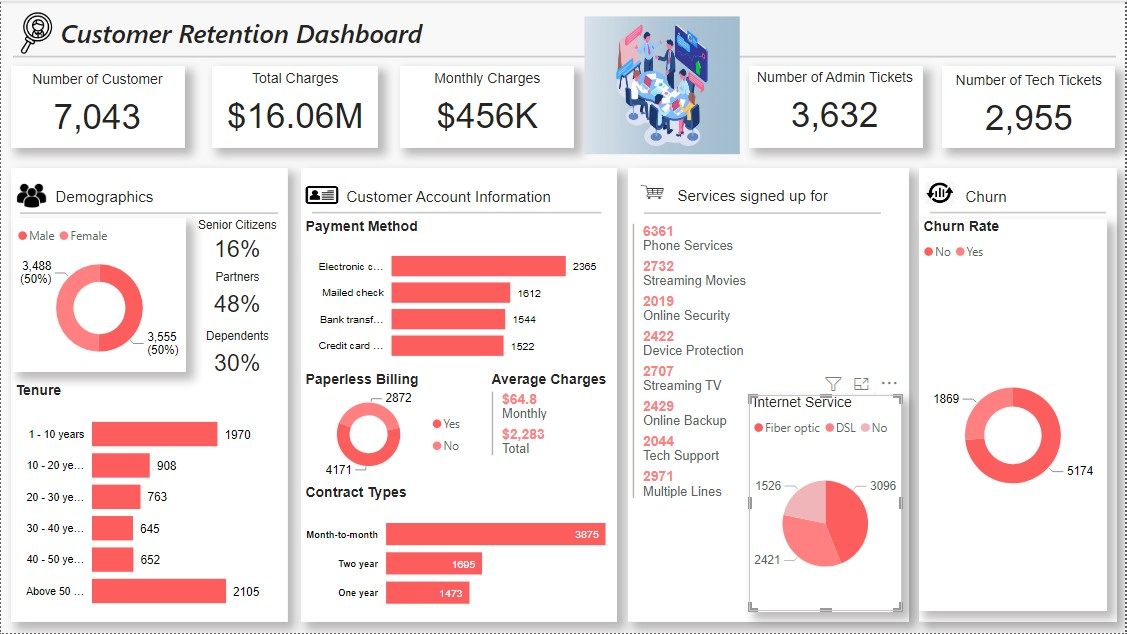

Layout of this report page (visuals, bound fields, positions):
{"tool":"powerbi","page":{"name":"Page 1","canvas":[1280,720],"ordinal":0},"visuals":[{"type":"shape","box":[11.5,189.8,314.6,517.1],"z":0},{"type":"shape","box":[341.3,189.8,360.4,517.1],"z":1000},{"type":"shape","box":[714.5,189.8,319.7,517.1],"z":2000},{"type":"shape","box":[1045.7,189.8,225.4,517.1],"z":3000},{"type":"shape","box":[11.4,73.9,197.9,93.3],"z":4000},{"type":"shape","box":[240,73.9,188.8,93.3],"z":5000},{"type":"shape","box":[455,73.9,197.9,93.3],"z":6000},{"type":"shape","box":[851.9,73.9,197.9,93.3],"z":7000},{"type":"shape","box":[1071.5,73.9,196.8,93.3],"z":8000},{"type":"shape","box":[21.7,234.3,294.2,14],"z":9000},{"type":"shape","box":[13.6,56.9,1256.9,12.5],"z":10000},{"type":"shape","box":[354.1,234.3,329.9,12.7],"z":11000},{"type":"shape","box":[732.3,234.3,270,14],"z":12000},{"type":"shape","box":[1058.4,234.3,201.2,12.7],"z":13000},{"type":"textbox","title":"Customer Retention Dashboard","box":[62.6,15.9,465.2,40.9],"z":14000},{"type":"textbox","title":"Demographics","box":[57.3,212.7,234.3,22.9],"z":15000},{"type":"textbox","title":"Customer Account Information","box":[388.5,212.7,267.5,22.9],"z":16000},{"type":"textbox","title":"Services signed up for","box":[765.5,211.6,228.6,22.7],"z":17000},{"type":"textbox","title":"Churn","box":[1094.2,212.7,167.2,22.7],"z":18000},{"type":"card","title":"Number of Customer","fields":{"Values":["All measures.Total Number of Customers"]},"box":[21.6,80.8,176.3,79.6],"z":19000},{"type":"card","title":"Total Charges ","fields":{"Values":["All measures.Total Charges"]},"box":[245.5,80.2,178.3,80.2],"z":20000},{"type":"card","title":"Monthly Charges ","fields":{"Values":["All measures.Monthly Charges"]},"box":[464.9,80.2,178.3,80.2],"z":21000},{"type":"card","title":"Number  of Admin Tickets","fields":{"Values":["All measures.# of Admin Tickets"]},"box":[853.1,78.5,193.4,80.8],"z":22000},{"type":"donutChart","fields":{"Y":["All measures.Total Number of Customers"],"Category":["Demography.gender"]},"box":[14,247.1,197.4,175.8],"z":23000},{"type":"card","title":"Partners","fields":{"Values":["All measures.% Partners"]},"box":[211.4,306.9,114.6,61.1],"z":24000},{"type":"card","title":"Senior Citizens","fields":{"Values":["All measures.% Senior Citizens"]},"box":[211.4,247.1,114.6,56],"z":25000},{"type":"card","title":"Dependents","fields":{"Values":["All measures.% Dependents"]},"box":[211.4,373.2,114.6,62.4],"z":26000},{"type":"barChart","title":"Tenure","fields":{"Y":["CountNonNull(Demography.Tenure Range)"],"Category":["Demography.Tenure Range"]},"box":[11.5,435.6,314.6,271.3],"z":27000},{"type":"barChart","title":"Payment Method ","fields":{"Category":["Account Info.PaymentMethod"],"Y":["CountNonNull(Account Info.PaymentMethod)"]},"box":[341.3,248.4,360.4,174.5],"z":28000},{"type":"donutChart","title":"Paperless Billing","fields":{"Category":["Account Info.PaperlessBilling"],"Y":["CountNonNull(Account Info.PaperlessBilling)"]},"box":[341.3,422.8,194.9,124.8],"z":29000},{"type":"barChart","title":"Contract Types ","fields":{"Category":["Account Info.Contract"],"Y":["CountNonNull(Account Info.Contract)"]},"box":[341.3,551.5,360.4,155.4],"z":30000},{"type":"multiRowCard","fields":{"Values":["All measures.Phone Services","All measures.Streaming Movies","All measures.Online Security","All measures.Device Protection","All measures.Streaming TV","All measures.Online Backup","All measures.Tech Support","All measures.Multiple Lines"]},"box":[714.5,248.4,174.5,338.8],"z":31000},{"type":"pieChart","title":"Internet Service","fields":{"Category":["Customer Service.InternetService"],"Y":["CountNonNull(Customer Service.InternetService)"]},"box":[852.1,448.3,174.5,247.1],"z":32000},{"type":"donutChart","title":"Churn Rate","fields":{"Category":["Churn.Churn"],"Y":["CountNonNull(Churn.Churn)"]},"box":[1045.7,248.4,214,447],"z":33000},{"type":"multiRowCard","title":"Average Charges","fields":{"Values":["All measures.Average Monthly Charges","All measures.Average Total Charges"]},"box":[554,422.8,147.7,124.8],"z":34000},{"type":"card","title":"Number of Tech Tickets","fields":{"Values":["All measures.# of Tech Tickets"]},"box":[1079.4,81.9,182,79.6],"z":35000},{"type":"image","box":[11.5,200,45.9,40.8],"z":36000},{"type":"image","box":[341.3,200,48.4,40.8],"z":37000},{"type":"image","box":[714.3,196.8,54.6,40.9],"z":38000},{"type":"image","box":[1048.2,200,43.3,35.7],"z":39000},{"type":"image","box":[659.7,12.7,187.2,166.8],"z":40000},{"type":"image","box":[0,8,79.6,56.9],"z":41000}]}

Visuals, with their boxes in screenshot pixels (x1, y1, x2, y2), scaled from the page's 1280x720 canvas onto the 1127x634 screenshot:
shape: 10, 167, 287, 622
shape: 301, 167, 618, 622
shape: 629, 167, 911, 622
shape: 921, 167, 1119, 622
shape: 10, 65, 184, 147
shape: 211, 65, 378, 147
shape: 401, 65, 575, 147
shape: 750, 65, 924, 147
shape: 943, 65, 1117, 147
shape: 19, 206, 278, 219
shape: 12, 50, 1119, 61
shape: 312, 206, 602, 217
shape: 645, 206, 882, 219
shape: 932, 206, 1109, 217
"Customer Retention Dashboard" textbox: 55, 14, 465, 50
"Demographics" textbox: 50, 187, 257, 207
"Customer Account Information" textbox: 342, 187, 578, 207
"Services signed up for" textbox: 674, 186, 875, 206
"Churn" textbox: 963, 187, 1111, 207
"Number of Customer" card: 19, 71, 174, 141
"Total Charges " card: 216, 71, 373, 141
"Monthly Charges " card: 409, 71, 566, 141
"Number  of Admin Tickets" card: 751, 69, 921, 140
donutChart - All measures.Total Number of Customers x Demography.gender: 12, 218, 186, 372
"Partners" card: 186, 270, 287, 324
"Senior Citizens" card: 186, 218, 287, 267
"Dependents" card: 186, 329, 287, 384
"Tenure" barChart: 10, 384, 287, 622
"Payment Method " barChart: 301, 219, 618, 372
"Paperless Billing" donutChart: 301, 372, 472, 482
"Contract Types " barChart: 301, 486, 618, 622
multiRowCard - All measures.Phone Services x All measures.Streaming Movies: 629, 219, 783, 517
"Internet Service" pieChart: 750, 395, 904, 612
"Churn Rate" donutChart: 921, 219, 1109, 612
"Average Charges" multiRowCard: 488, 372, 618, 482
"Number of Tech Tickets" card: 950, 72, 1111, 142
image: 10, 176, 51, 212
image: 301, 176, 343, 212
image: 629, 173, 677, 209
image: 923, 176, 961, 208
image: 581, 11, 746, 158
image: 0, 7, 70, 57
